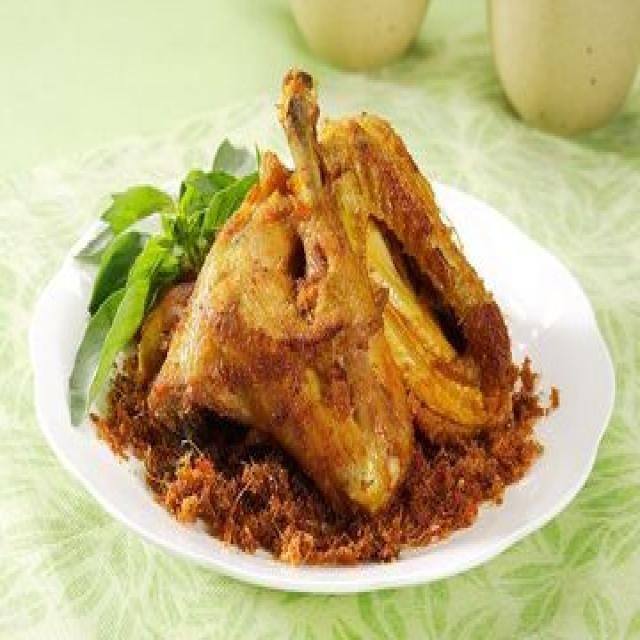ayam_goreng: (124, 61, 536, 544)
